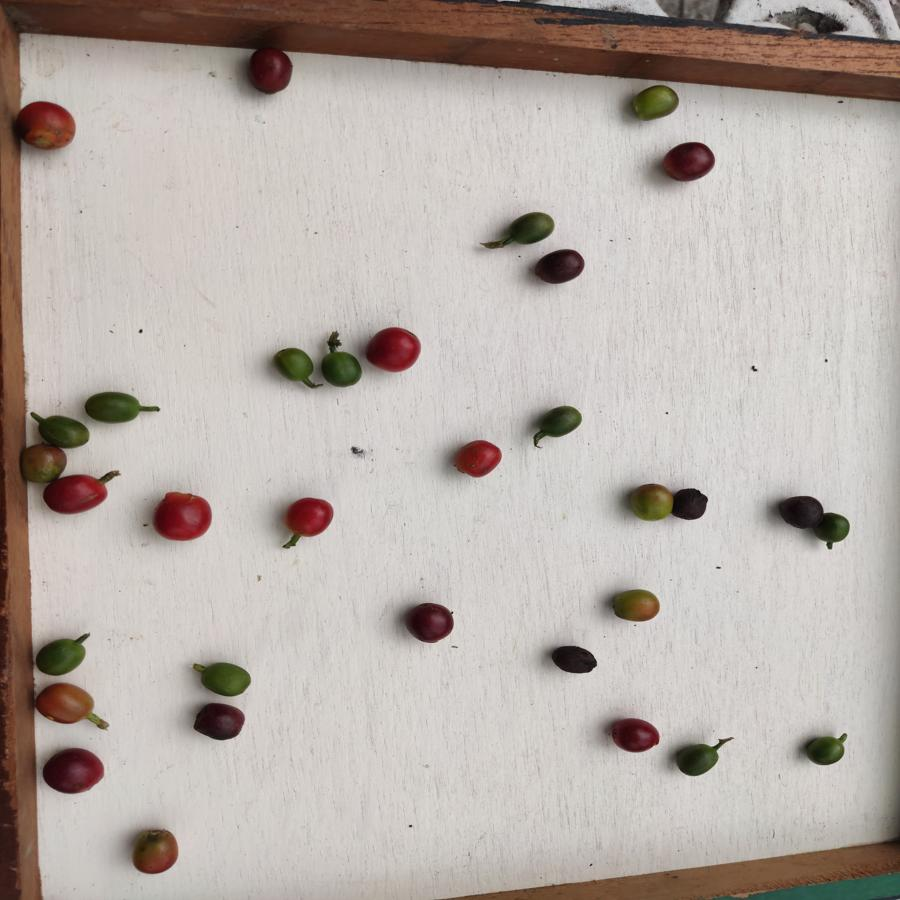Inmaduro: (194, 660, 257, 700), (34, 634, 86, 680), (83, 389, 144, 427), (506, 209, 557, 246), (317, 350, 365, 389), (33, 415, 89, 448), (672, 743, 723, 779), (270, 346, 314, 386), (536, 403, 584, 439), (819, 506, 854, 551), (807, 734, 851, 768)
Maduro: (13, 100, 79, 150), (151, 490, 213, 543), (361, 324, 422, 376), (42, 473, 112, 518), (283, 496, 334, 542), (453, 435, 503, 480)
Pinton: (129, 824, 182, 878), (32, 683, 96, 725), (629, 84, 680, 123), (607, 586, 661, 622), (628, 480, 674, 522), (22, 445, 66, 483)
Sobremaduro: (39, 747, 108, 797), (400, 599, 459, 648), (240, 49, 299, 92), (658, 141, 718, 183), (190, 702, 248, 743), (529, 248, 590, 284), (608, 717, 661, 755), (776, 487, 818, 532), (548, 644, 599, 675), (675, 484, 712, 525)
